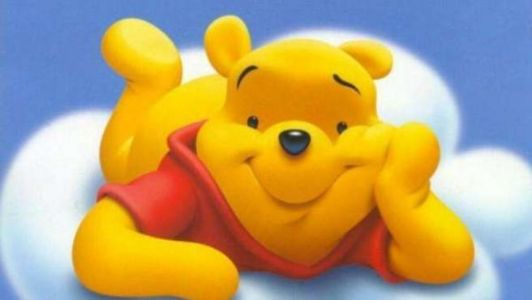bear: (89, 13, 473, 293)
